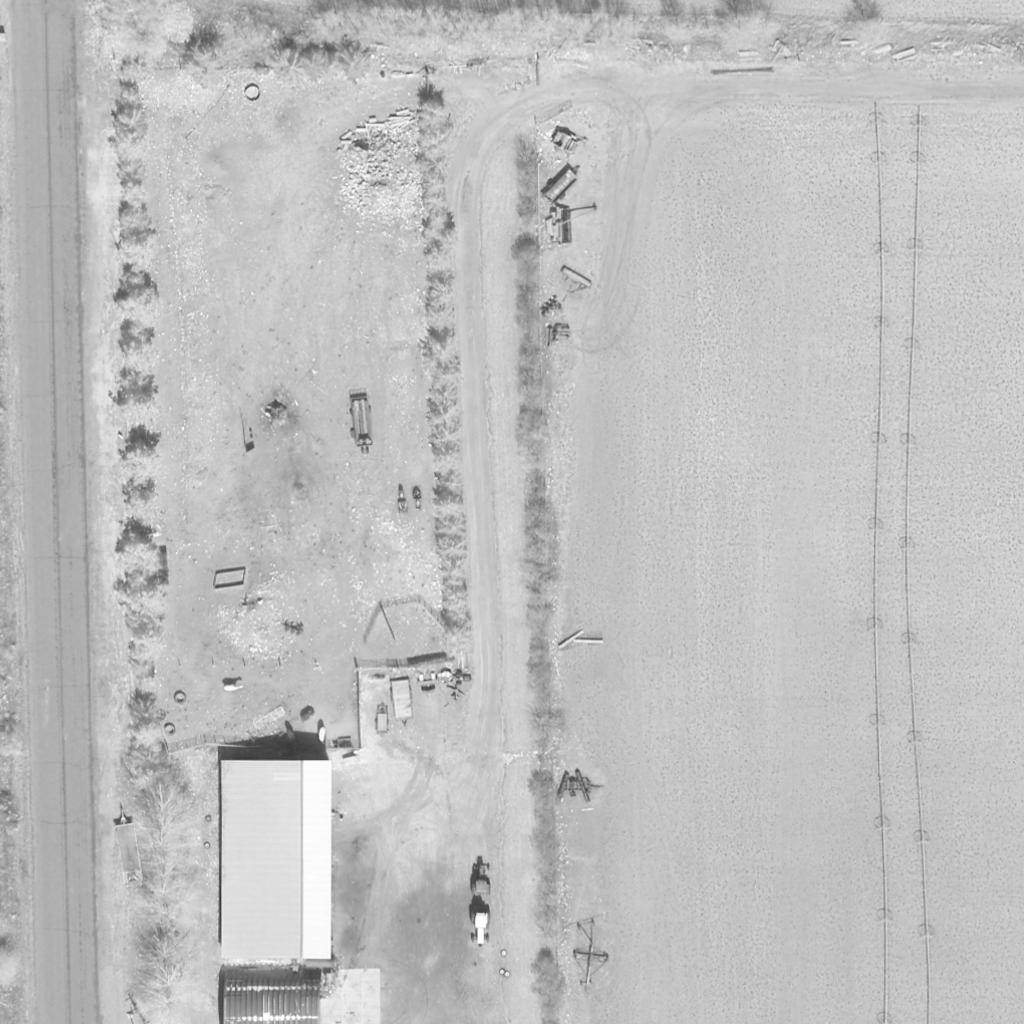vehicle: (470, 858, 494, 898), (470, 909, 494, 949)
